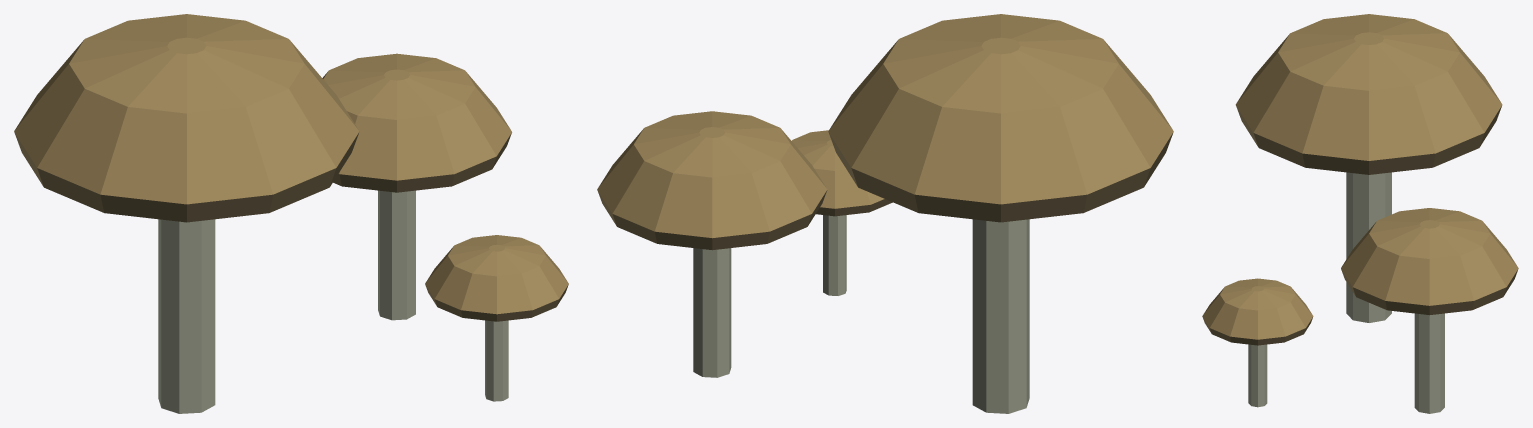
File: mushrooms.glb
The picture shows the model from 3 angles, left to right: view 1: azimuth 30°, elevation 25°; view 2: azimuth 150°, elevation 25°; view 3: azimuth 270°, elevation 25°; orthographic projection. The views are drawn at different scales.
Visible parts, largest first — view 1: mushrooms__body; view 2: mushrooms__body; view 3: mushrooms__body.
Boxes of the visible parts, x1,y1,x2,y2 form: mushrooms__body: [14, 14, 568, 413]; mushrooms__body: [597, 14, 1173, 413]; mushrooms__body: [1202, 14, 1518, 413].
Size of the model in its own units: 0.88 by 0.6 by 0.626.
